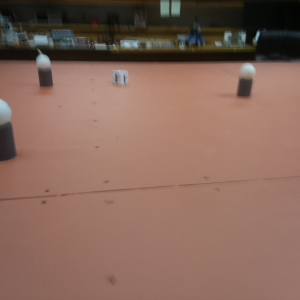obstacle: (1, 98, 17, 163), (237, 61, 255, 100), (35, 53, 53, 90)
